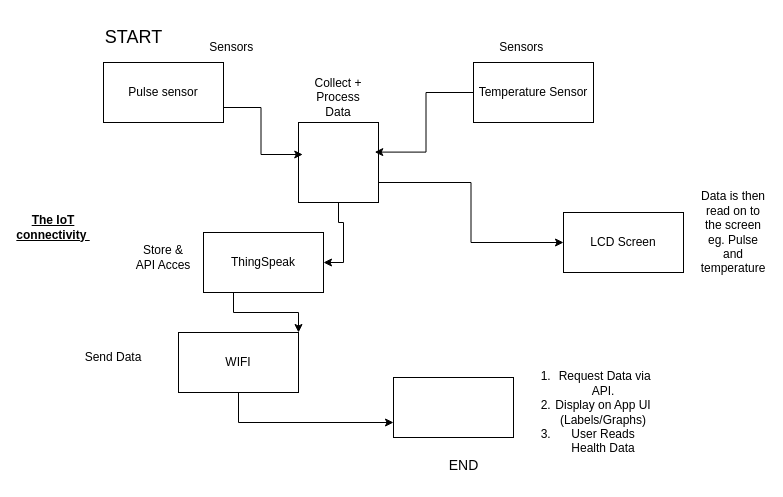
Some shapes in this 783 by 497 pixel diagram are drawn without their labels. Each missing label, with the centre of its shape:
"ESP32" belongs at (x=338, y=162).
"Pulse wave app" belongs at (x=453, y=407).
